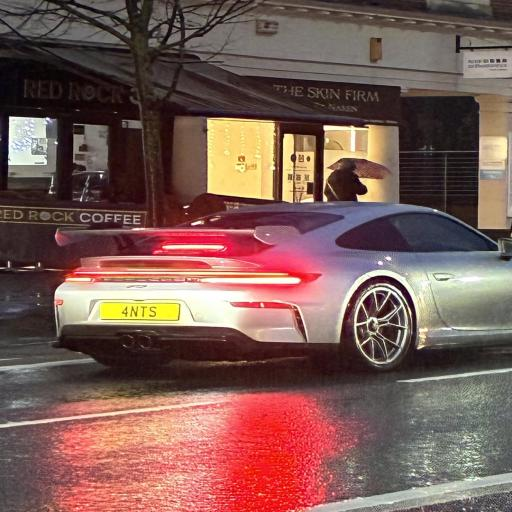numberplates: (100, 302, 180, 321)
